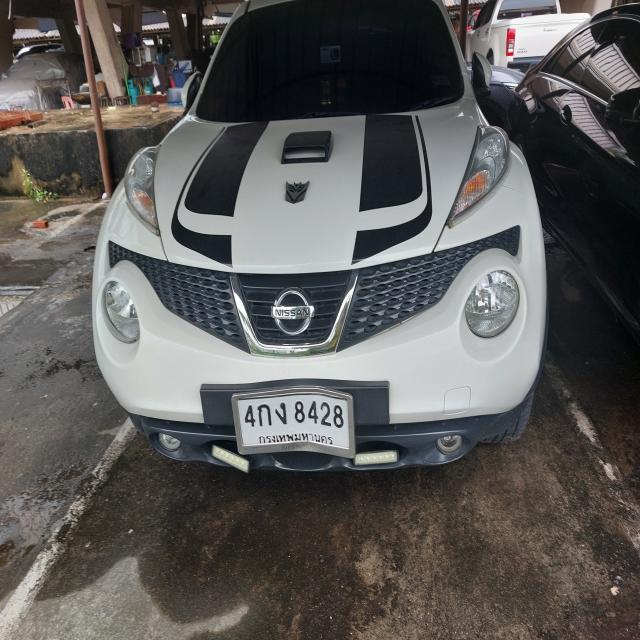license_plate: (232, 387, 357, 458)
